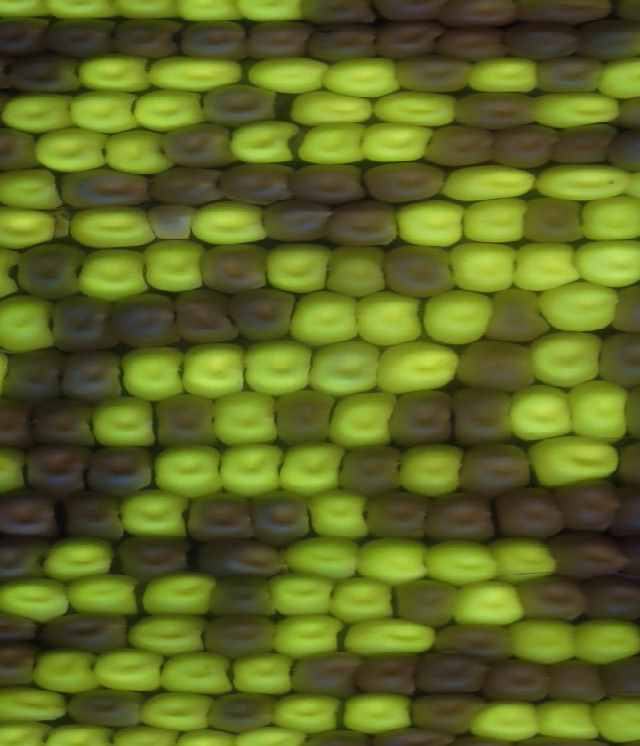fluorescent: (524, 430, 624, 492), (531, 276, 629, 338), (371, 338, 466, 401), (302, 333, 390, 401), (521, 327, 609, 394), (232, 335, 321, 400), (70, 244, 156, 308), (389, 437, 473, 502), (322, 386, 400, 455), (444, 236, 529, 299), (417, 285, 502, 348), (145, 440, 231, 502), (275, 434, 351, 504), (63, 202, 163, 255), (83, 387, 163, 453), (208, 386, 288, 452), (282, 285, 364, 349), (174, 335, 251, 403), (505, 378, 580, 447), (386, 193, 473, 252), (187, 194, 276, 251), (349, 284, 427, 349), (114, 341, 193, 404), (352, 532, 437, 590), (140, 564, 222, 624), (566, 376, 636, 446), (115, 484, 198, 543), (318, 54, 412, 106), (529, 159, 637, 204), (211, 439, 288, 502), (141, 50, 251, 94), (506, 237, 588, 296), (504, 611, 586, 670), (261, 236, 339, 298), (125, 604, 211, 660), (265, 607, 352, 662), (139, 236, 213, 300), (320, 239, 394, 303), (435, 162, 545, 205), (444, 576, 530, 631), (97, 123, 178, 181), (59, 568, 146, 622), (27, 122, 112, 177), (63, 82, 145, 139), (484, 532, 566, 589), (339, 613, 440, 659), (89, 641, 171, 697), (261, 565, 340, 623), (27, 641, 104, 700), (226, 114, 307, 170), (418, 536, 503, 589), (457, 193, 536, 250), (304, 482, 377, 543), (279, 532, 367, 582), (335, 686, 421, 737), (155, 646, 239, 698), (459, 51, 546, 101), (38, 530, 120, 583), (69, 47, 155, 97), (527, 89, 627, 132), (0, 288, 62, 356), (127, 85, 213, 134), (295, 117, 375, 169), (568, 612, 640, 669), (355, 118, 440, 166), (0, 87, 83, 136), (369, 89, 463, 132), (245, 51, 332, 97), (135, 685, 220, 732), (571, 189, 640, 246), (228, 646, 302, 699), (326, 572, 400, 625), (0, 571, 72, 625), (286, 86, 382, 126), (530, 695, 610, 743), (569, 235, 640, 289), (269, 687, 344, 738), (0, 675, 73, 726), (0, 164, 70, 217), (0, 202, 68, 255), (468, 697, 545, 743), (582, 691, 640, 746), (0, 439, 41, 501), (596, 52, 640, 102), (39, 720, 119, 746), (229, 722, 314, 746), (0, 713, 59, 746), (108, 721, 185, 746), (171, 721, 248, 746)
nonfluorescent: (39, 291, 124, 361), (372, 237, 462, 303), (189, 534, 299, 588), (451, 333, 542, 397), (454, 439, 541, 502), (12, 233, 89, 304), (478, 284, 562, 348), (488, 480, 572, 544), (385, 382, 459, 454), (193, 238, 276, 301), (220, 285, 303, 348), (166, 286, 246, 351), (445, 383, 520, 452), (247, 482, 322, 551), (107, 289, 187, 353), (444, 88, 542, 140), (546, 528, 636, 584), (18, 436, 93, 503), (38, 606, 131, 660), (359, 484, 436, 549), (201, 605, 287, 663), (112, 528, 198, 586), (146, 388, 225, 451), (356, 157, 455, 207), (509, 568, 591, 628), (320, 197, 406, 254), (53, 165, 157, 212), (82, 441, 159, 504), (419, 488, 502, 546), (387, 573, 467, 633), (26, 391, 103, 453), (474, 654, 561, 708), (550, 473, 625, 535), (283, 644, 363, 702), (58, 484, 134, 545), (56, 345, 130, 406), (155, 118, 237, 173), (339, 438, 409, 502), (408, 646, 494, 698), (182, 489, 259, 547), (4, 48, 89, 100), (284, 158, 369, 210), (196, 80, 286, 129), (538, 653, 612, 712), (270, 386, 338, 450), (107, 14, 189, 67), (0, 345, 71, 406), (214, 159, 297, 211), (261, 194, 339, 249), (204, 571, 284, 624), (60, 684, 148, 732), (301, 19, 387, 68), (36, 14, 122, 62), (173, 14, 255, 64), (203, 686, 283, 737), (522, 193, 591, 252), (488, 120, 563, 174), (0, 482, 67, 542), (349, 649, 426, 701), (394, 52, 479, 99), (422, 120, 498, 172), (503, 16, 585, 64), (434, 618, 519, 664), (369, 16, 453, 62), (406, 689, 484, 738), (147, 163, 231, 208), (548, 119, 622, 169), (241, 17, 318, 64), (533, 52, 610, 98), (568, 14, 640, 63), (429, 22, 511, 65), (576, 569, 640, 624), (590, 326, 640, 393), (0, 529, 54, 588), (592, 649, 640, 707), (0, 392, 44, 453), (0, 12, 52, 63), (0, 122, 45, 178), (0, 633, 42, 693), (0, 600, 46, 653), (603, 478, 640, 538), (605, 281, 640, 341), (604, 125, 640, 174), (609, 88, 640, 143)
